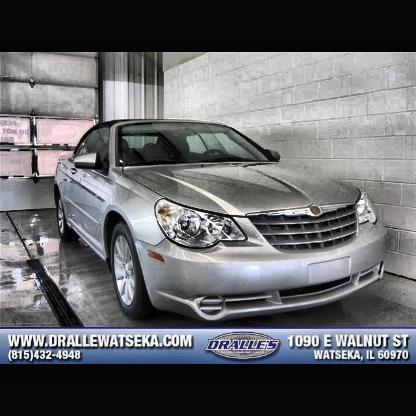Chrysler Sebring Convertible 2010: (54, 119, 388, 325)
